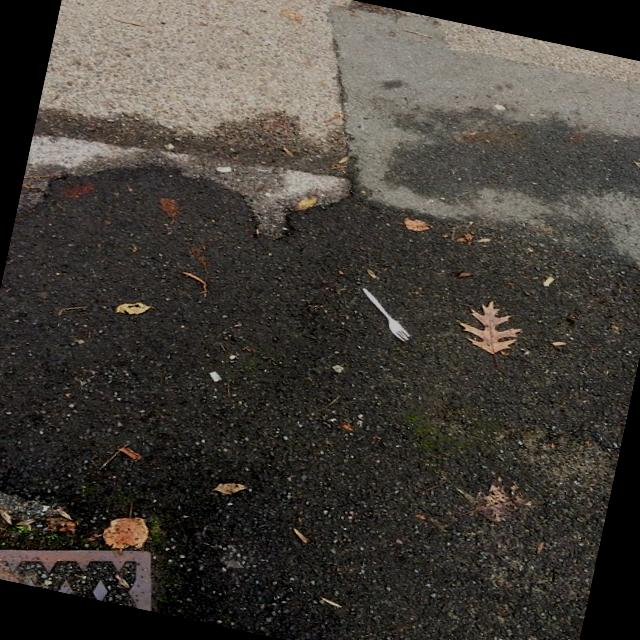Trash: (350, 280, 422, 346)
